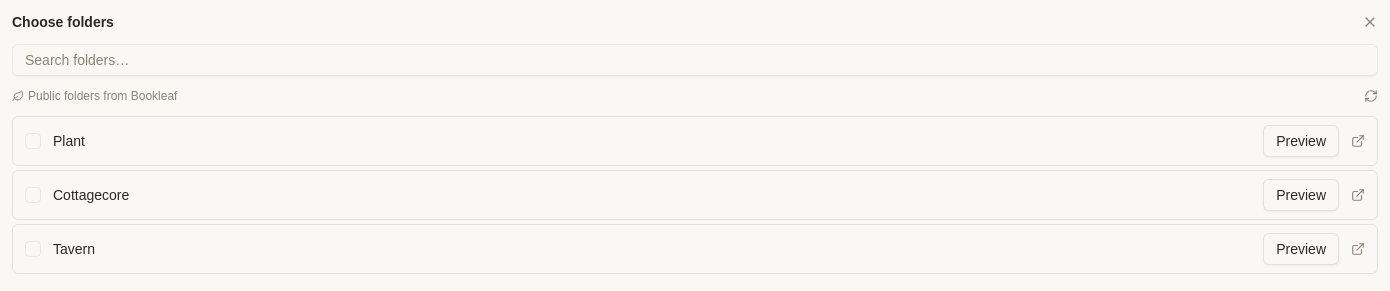
Test: ChooseFoldersPanel › filters folder list case-insensitively as user types
The image size is (1390, 291).
In the field with placeholder "Search folders…": (695, 60) [12,44,1378,76], type "plant"
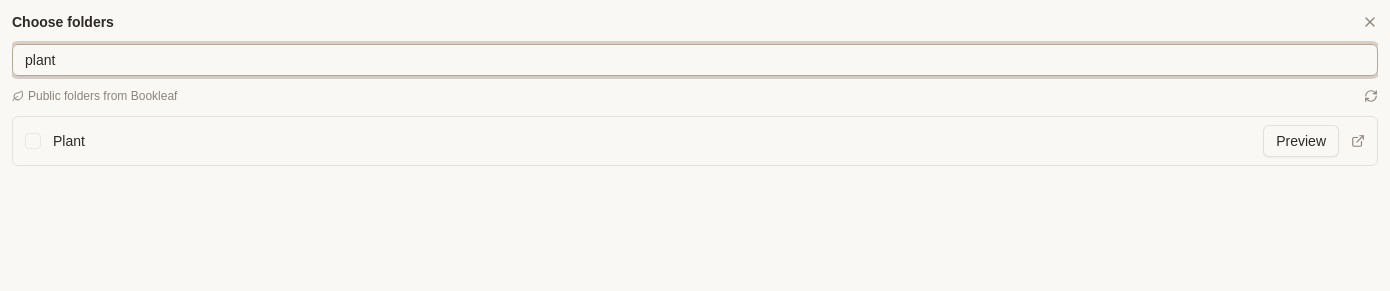
Expected: the checkbox "Plant" is shown, [53,133,85,149]
Result: the checkbox "Cottagecore" is gone
Result: the checkbox "Tavern" is gone
